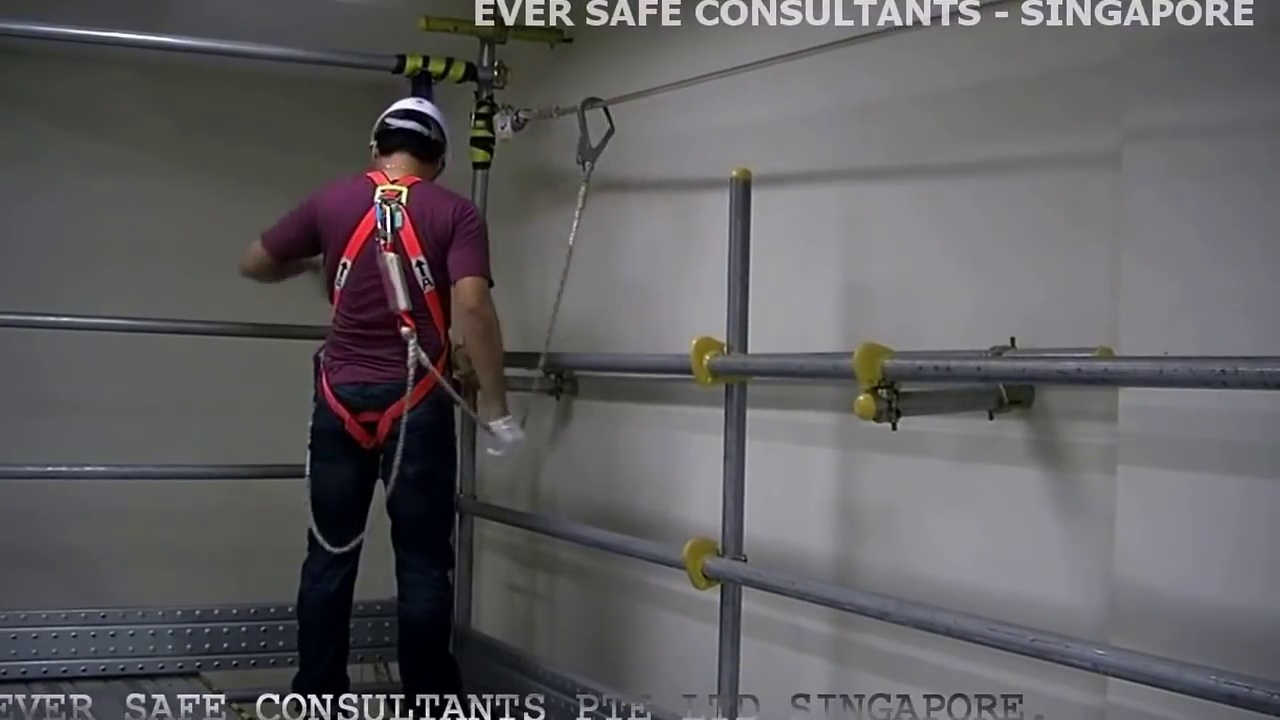harness: (323, 178, 460, 443)
helmet: (372, 95, 453, 133)
hook: (564, 85, 618, 169)
leash: (516, 181, 607, 413)
